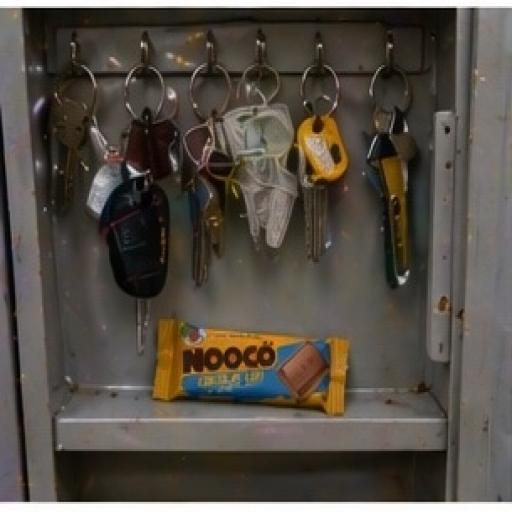biscuit-detection: (128, 277, 364, 440)
